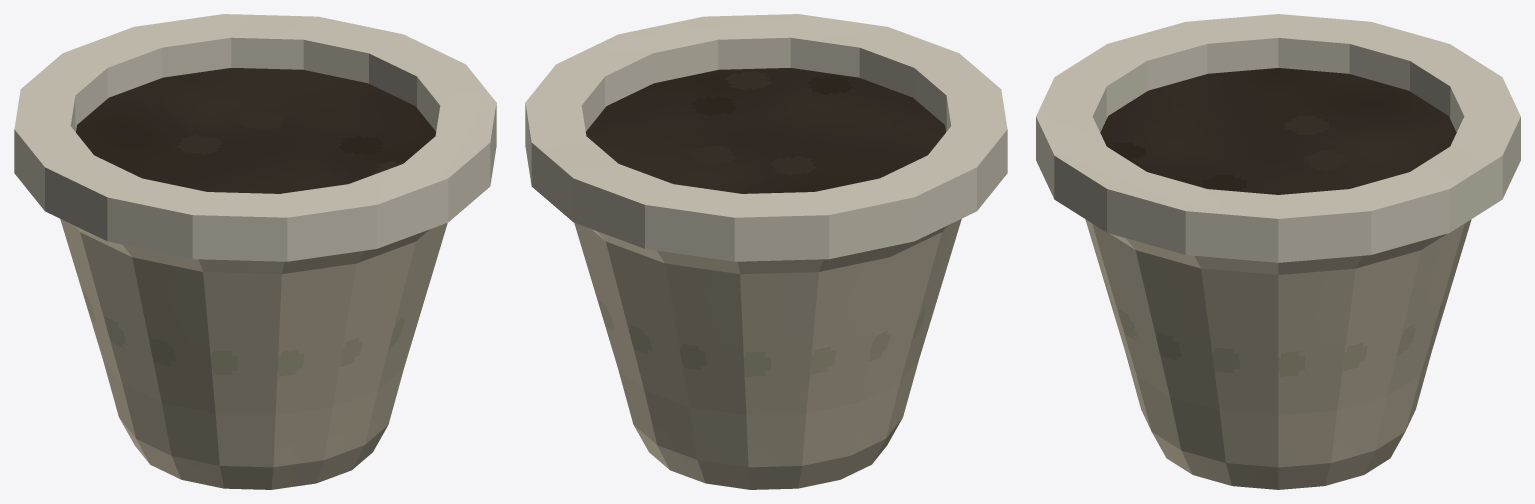
The model's file is AST-BOT-012.glb.
The picture shows the model from 3 angles, left to right: view 1: azimuth 30°, elevation 25°; view 2: azimuth 150°, elevation 25°; view 3: azimuth 270°, elevation 25°; orthographic projection.
Parts seen in each view (by area): view 1: POT_TaperedCeramicBody, POT_RolledLip, POT_ContainedSoil; view 2: POT_TaperedCeramicBody, POT_RolledLip, POT_ContainedSoil; view 3: POT_TaperedCeramicBody, POT_RolledLip, POT_ContainedSoil.
Boxes of the visible parts, <box> form: POT_TaperedCeramicBody: <box>60,132,447,489</box>; POT_RolledLip: <box>14,14,496,261</box>; POT_ContainedSoil: <box>76,68,435,193</box>; POT_TaperedCeramicBody: <box>574,132,961,489</box>; POT_RolledLip: <box>525,14,1007,261</box>; POT_ContainedSoil: <box>586,68,945,193</box>; POT_TaperedCeramicBody: <box>1085,219,1471,489</box>; POT_RolledLip: <box>1036,14,1520,262</box>; POT_ContainedSoil: <box>1100,68,1456,194</box>.
Bounding box in the file's own units: 0.3 × 0.22 × 0.3.
Materials: 3 (3 with a texture image).
